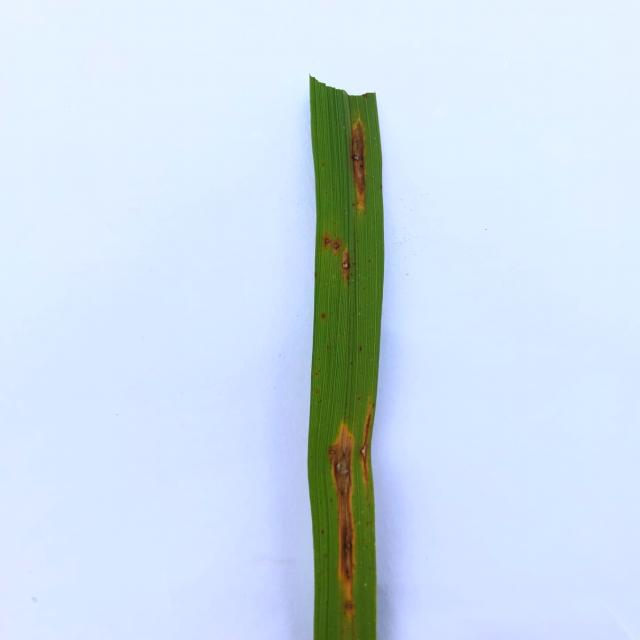leaf blast: (325, 418, 356, 498), (349, 117, 368, 201), (339, 517, 356, 587), (338, 598, 358, 618), (341, 251, 352, 280), (358, 440, 370, 460)
